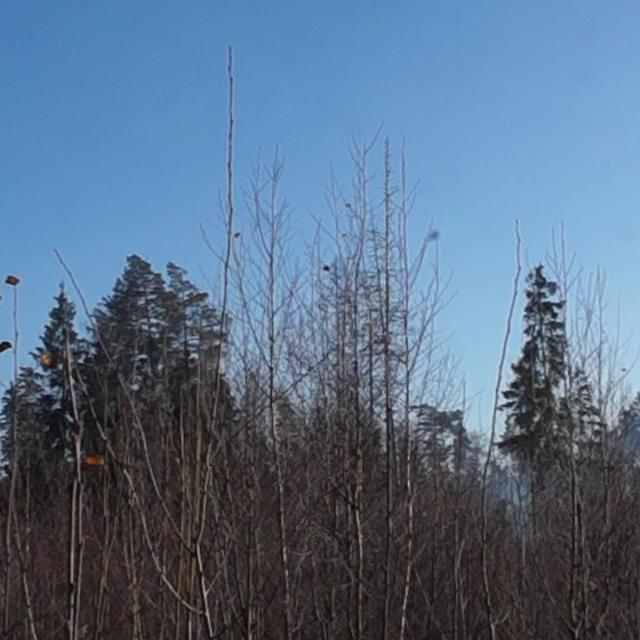Smoke: (481, 455, 547, 540), (595, 411, 639, 485)
